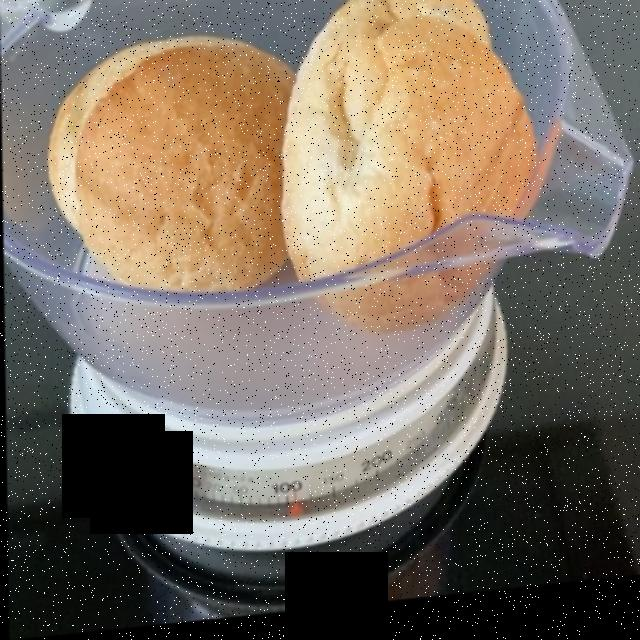bread-white: (44, 0, 516, 320)
